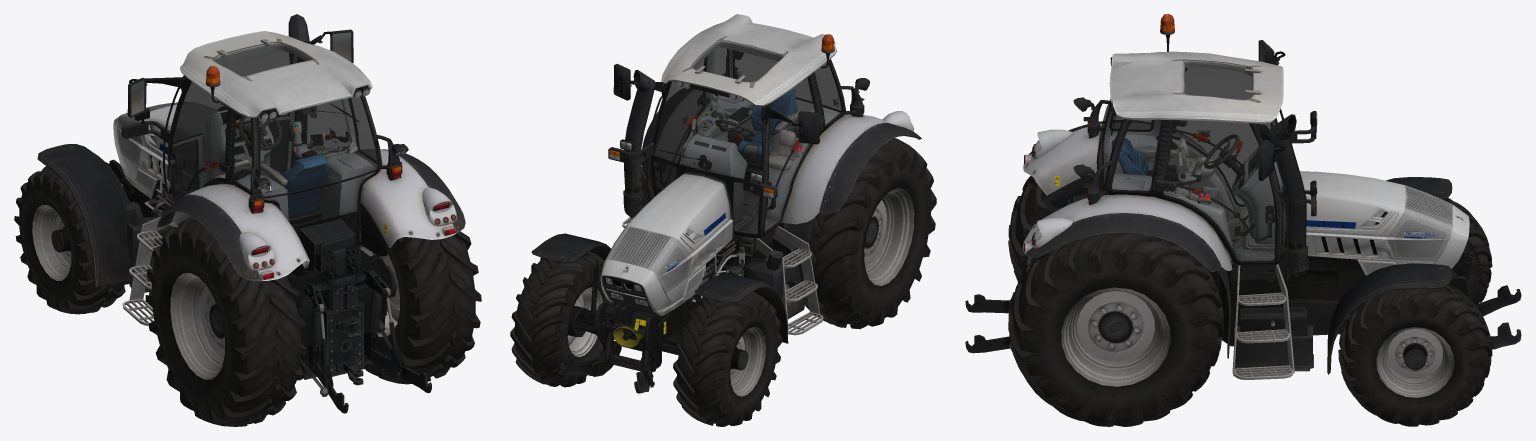
The model's file is tractor.glb.
The picture shows the model from 3 angles, left to right: view 1: azimuth 30°, elevation 25°; view 2: azimuth 150°, elevation 25°; view 3: azimuth 270°, elevation 25°; orthographic projection. The views are drawn at different scales.
Visible parts, largest first — view 1: Body, Wheel_RL, Wheel_RR, Wheel_FL; view 2: Body, Wheel_RL, Wheel_FL, Wheel_FR; view 3: Body, Wheel_RR, Wheel_FR, Wheel_RL, Wheel_FL.
Part boxes in pixels (x1,y1,x2,y2): Body: [37, 14, 465, 413]; Wheel_RL: [145, 218, 306, 426]; Wheel_RR: [360, 202, 481, 384]; Wheel_FL: [14, 166, 128, 314]; Body: [531, 14, 921, 393]; Wheel_RL: [804, 138, 936, 329]; Wheel_FL: [673, 292, 782, 426]; Wheel_FR: [510, 251, 610, 387]; Body: [965, 14, 1521, 379]; Wheel_RR: [1008, 232, 1224, 426]; Wheel_FR: [1338, 284, 1492, 426]; Wheel_RL: [1008, 176, 1059, 281]; Wheel_FL: [1444, 198, 1492, 304].
Size of the model in its own units: 2.19 by 2.87 by 4.4.
7 materials, 7 textured.
